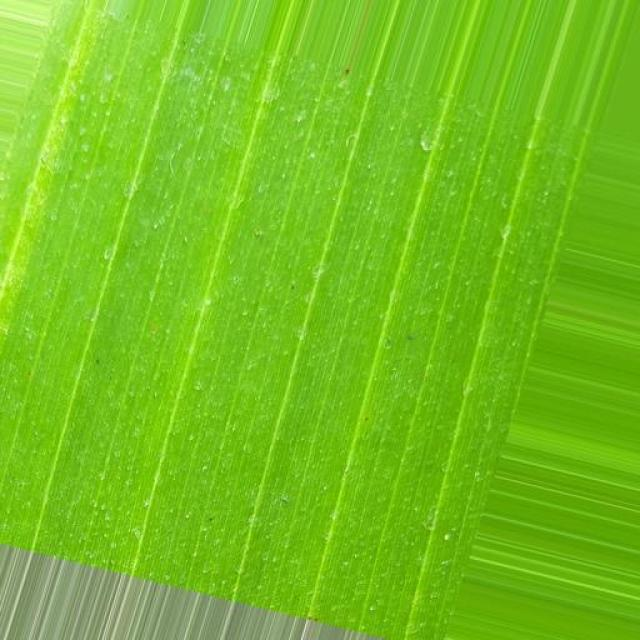Black_leaf_spot: (0, 0, 588, 562)
